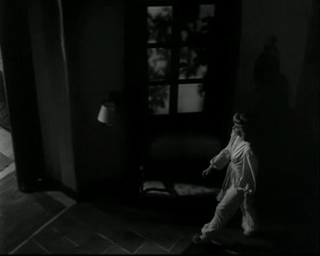els: (1, 1, 320, 256)
face: (232, 122, 244, 135)
person: (192, 112, 254, 242)
